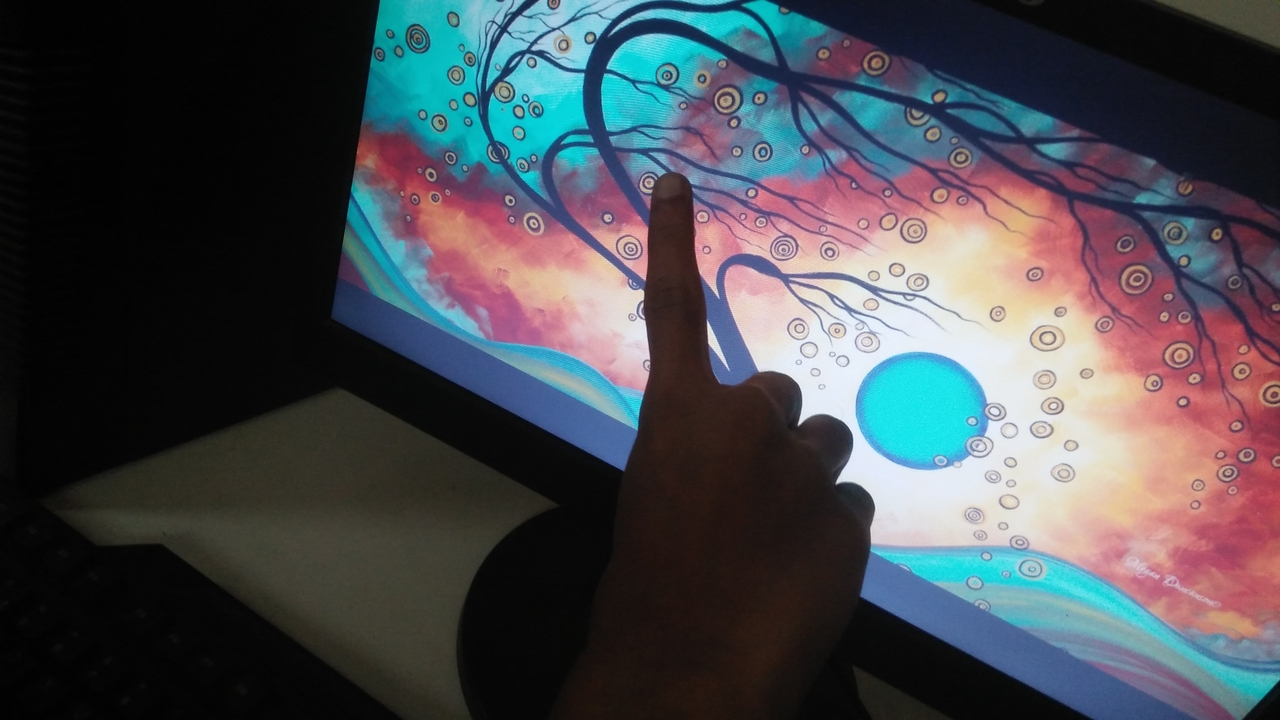fingertip: (644, 160, 702, 216)
